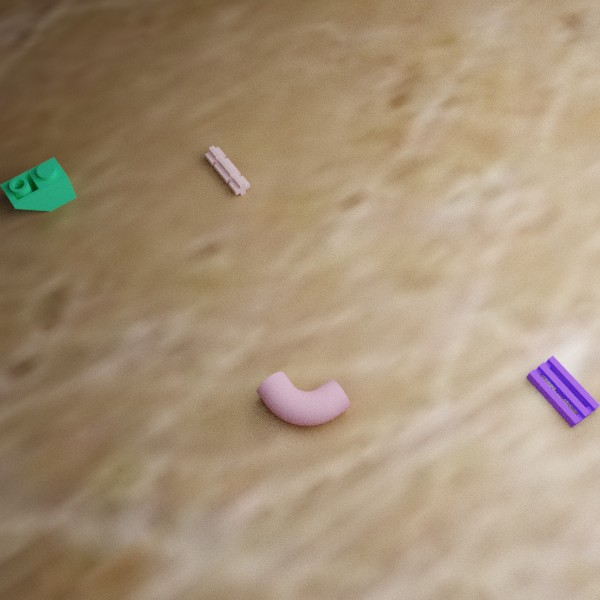lego: (526, 355, 600, 427), (256, 371, 350, 425), (0, 157, 76, 211), (204, 145, 250, 195)
